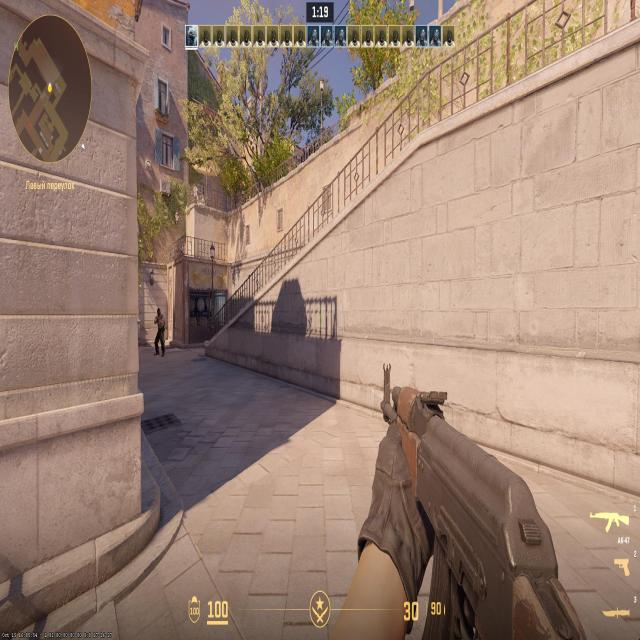T: (155, 306, 165, 348)
T_heat: (157, 309, 163, 318)
